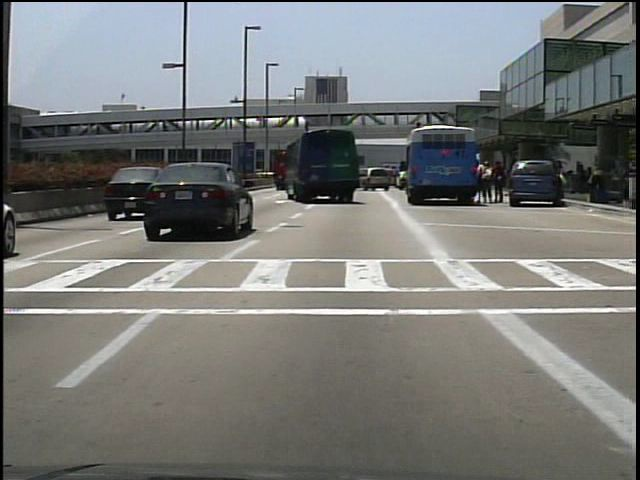person: (477, 159, 493, 205), (490, 162, 504, 206), (556, 165, 569, 204)
